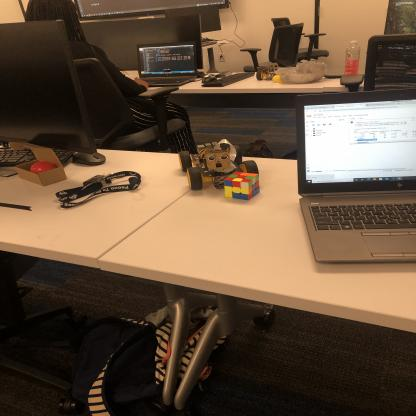UnsolvedCube: (225, 170, 259, 202)
